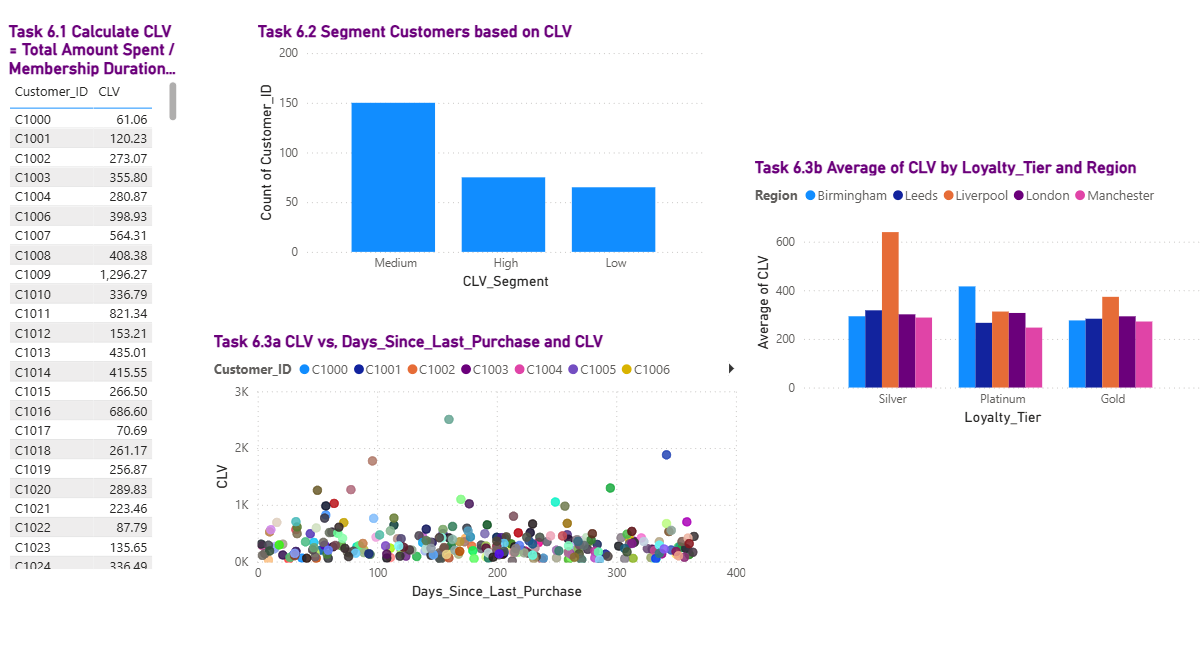

What the dashboard file says about the page in this screenshot:
{"tool":"powerbi","page":{"name":"Task 6","canvas":[1280,720],"ordinal":4},"visuals":[{"type":"tableEx","title":"Task 6.1 Calculate CLV = Total Amount Spent / Membership Duration (in years) ","fields":{"Values":["Customer_Transactions.Customer_ID","Customer_Transactions.CLV"]},"box":[12.8,40.7,182.7,567.9],"z":0},{"type":"columnChart","title":"Task 6.2 Segment Customers based on CLV","fields":{"Category":["Customer_Demographics.CLV_Segment"],"Y":["CountNonNull(Customer_Demographics.Customer_ID)"]},"box":[267.8,41.2,468.3,280.2],"z":1000},{"type":"scatterChart","title":"Task 6.3a CLV vs, Days_Since_Last_Purchase and CLV","fields":{"X":["Churn_Labelled_Customers.Days_Since_Last_Purchase"],"Y":["Customer_Demographics.CLV"],"Series":["Customer_Demographics.Customer_ID"]},"box":[222.5,359.8,556.2,280.2],"z":2000},{"type":"clusteredColumnChart","title":"Task 6.3b Average of CLV by Loyalty_Tier and Region","fields":{"Category":["Loyalty_Program.Loyalty_Tier"],"Series":["Customer_Demographics.Region"],"Y":["Avg(Customer_Demographics.CLV)"]},"box":[778.7,181.3,468.3,280.2],"z":3000}]}

Visuals, with their boxes on the page's 1280x720 design canvas (x1, y1, x2, y2). These are canvas units, not pixel positions in the 1201x648 screenshot, which may show the page scaled, cropped or inside an application window:
"Task 6.1 Calculate CLV = Total Amount Spent / Membership Duration (in years) " tableEx: 13:41:196:609
"Task 6.2 Segment Customers based on CLV" columnChart: 268:41:736:321
"Task 6.3a CLV vs, Days_Since_Last_Purchase and CLV" scatterChart: 222:360:779:640
"Task 6.3b Average of CLV by Loyalty_Tier and Region" clusteredColumnChart: 779:181:1247:462
